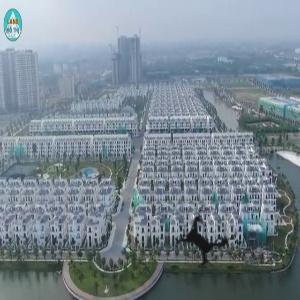drone: (151, 186, 258, 293)
